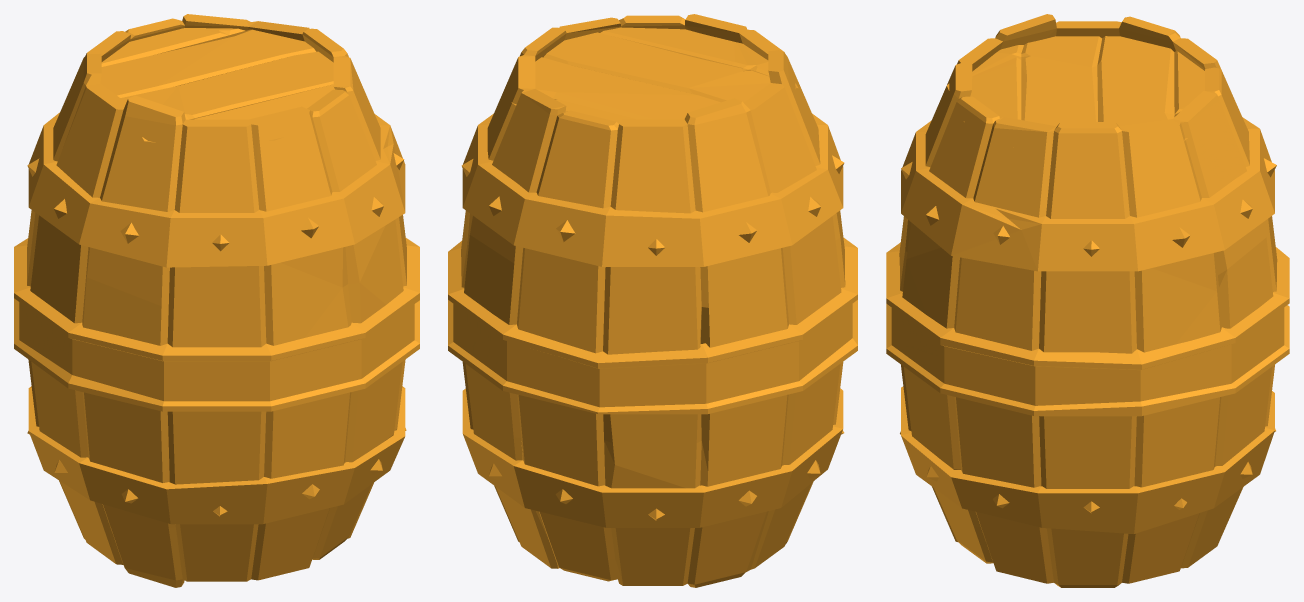
File: SM_Barrel_Wood_A_Broken_C_Fantasy.fbx
3 renders of one model, left to right at view 1: azimuth 30°, elevation 25°; view 2: azimuth 150°, elevation 25°; view 3: azimuth 270°, elevation 25°, orthographic.
Parts seen in each view (by area): view 1: barrel-wood-a-broken-ca-fantasy, barrel-wood-a-broken-cb-fantasy, barrel-wood-a-broken-cc-fantasy; view 2: barrel-wood-a-broken-ca-fantasy, barrel-wood-a-broken-cb-fantasy, barrel-wood-a-broken-cc-fantasy; view 3: barrel-wood-a-broken-ca-fantasy, barrel-wood-a-broken-cb-fantasy, barrel-wood-a-broken-cc-fantasy.
Boxes of the visible parts, box(x1,y1,x2,y2) form: barrel-wood-a-broken-ca-fantasy: box(27, 14, 405, 345); barrel-wood-a-broken-cb-fantasy: box(14, 181, 419, 527); barrel-wood-a-broken-cc-fantasy: box(27, 378, 406, 587); barrel-wood-a-broken-ca-fantasy: box(461, 14, 844, 334); barrel-wood-a-broken-cb-fantasy: box(448, 210, 857, 559); barrel-wood-a-broken-cc-fantasy: box(462, 388, 844, 587); barrel-wood-a-broken-ca-fantasy: box(899, 14, 1276, 295); barrel-wood-a-broken-cb-fantasy: box(886, 168, 1289, 526); barrel-wood-a-broken-cc-fantasy: box(900, 365, 1275, 587).
Size of the model in its own units: 0.9918 by 1.28 by 0.9918.
